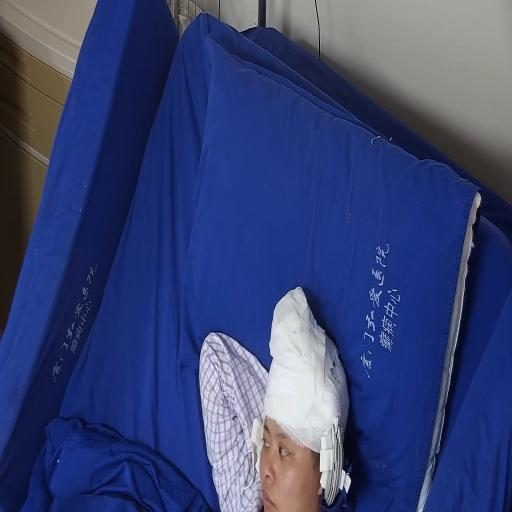Netural: (252, 376, 332, 510)
